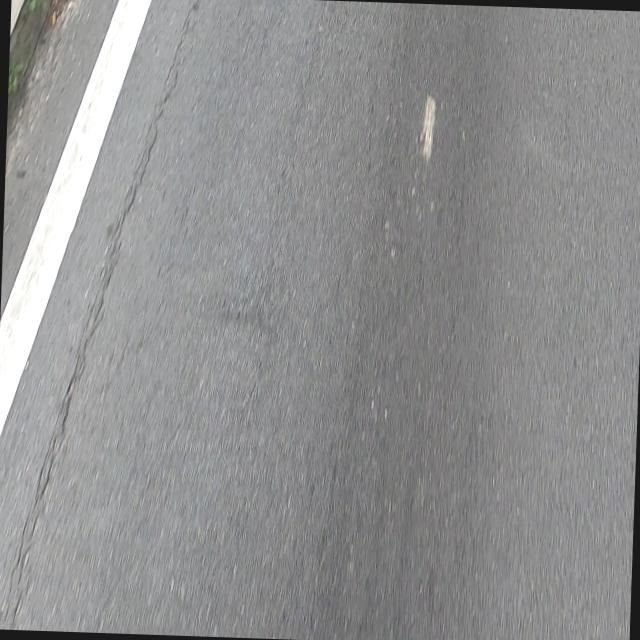Retak-Memanjang: (18, 77, 179, 594)
